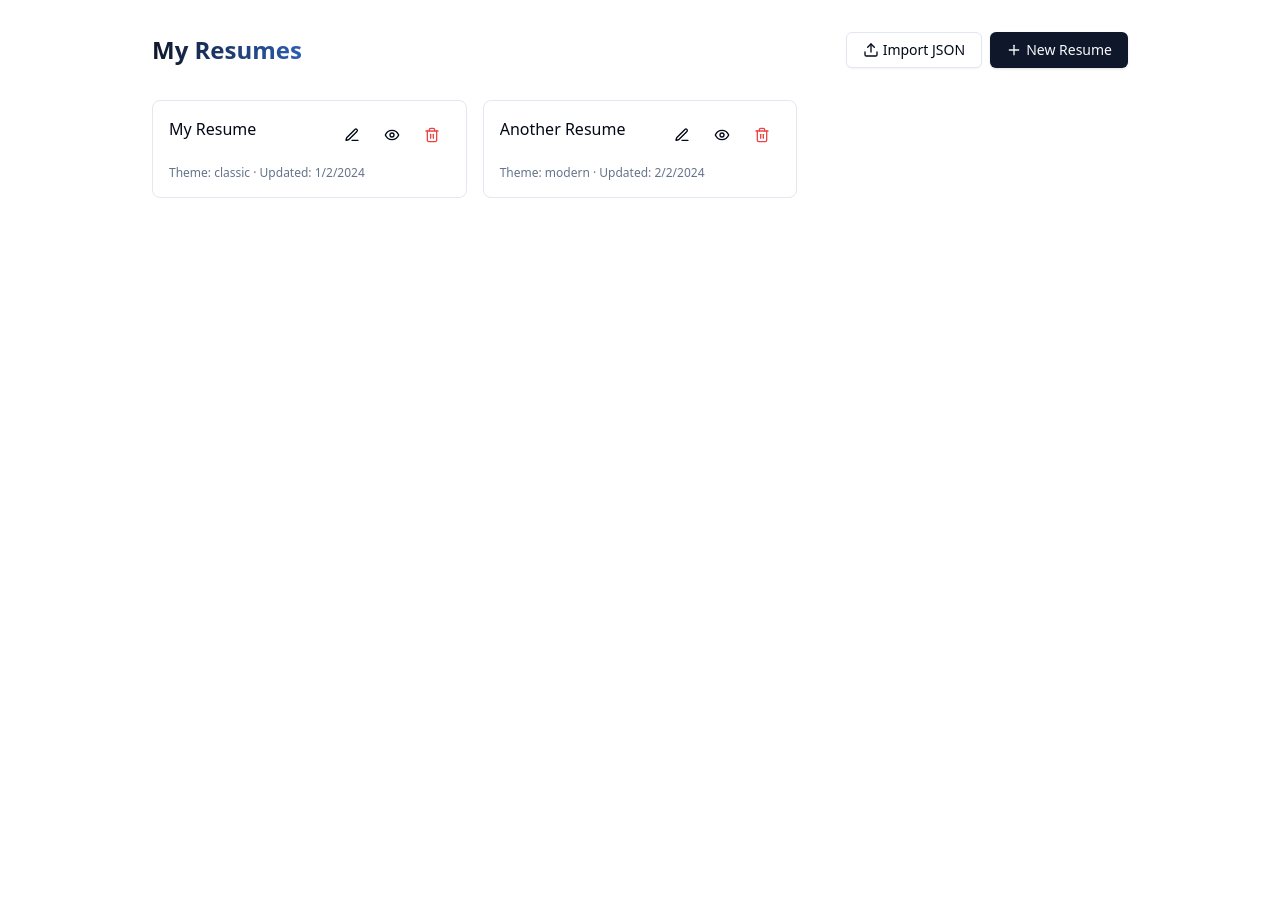
Test: HomePage › closes dialog when cancel clicked
Click the 1st button titled "Delete" at (432, 135), box 414,117 -> 450,153
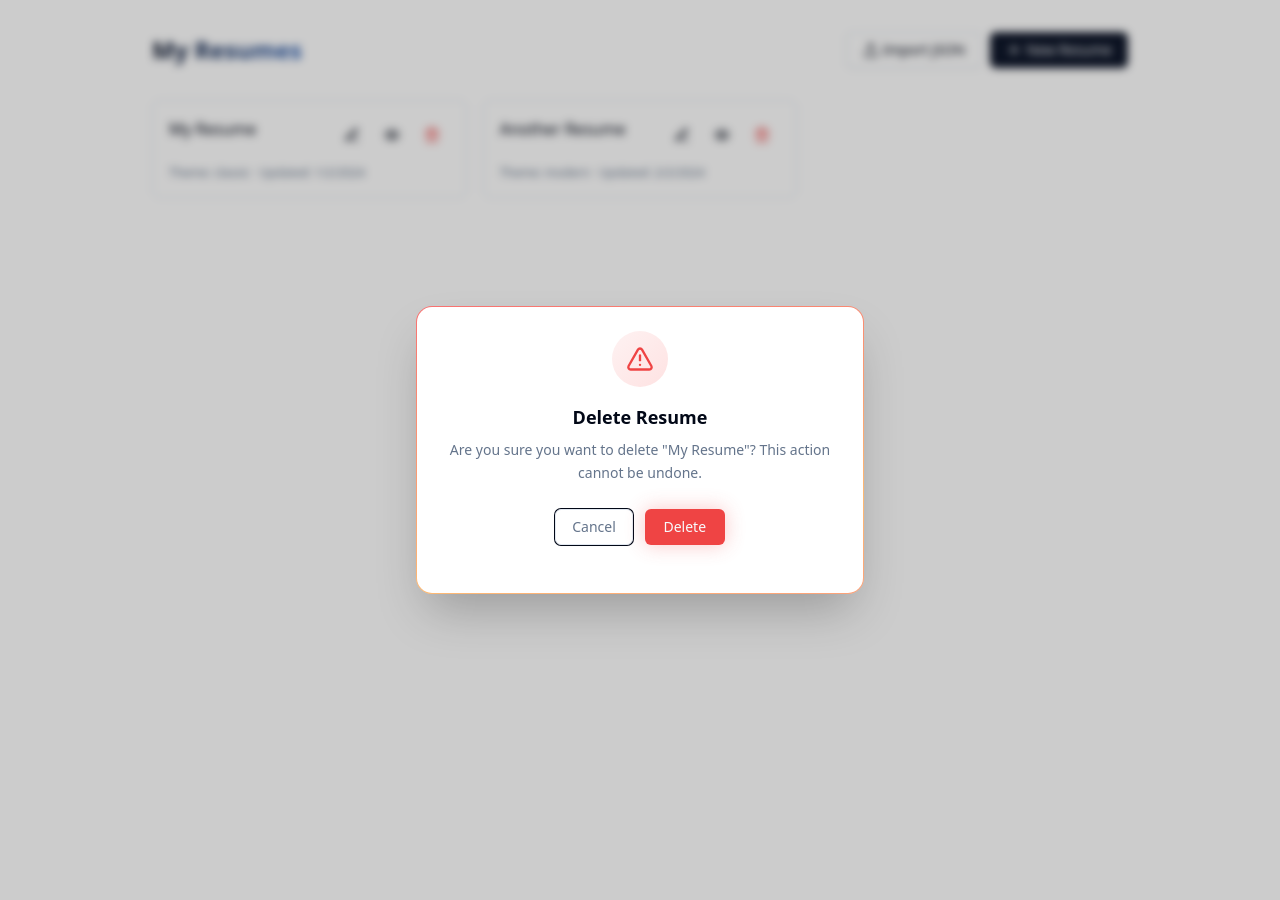
Expected: the heading "Delete Resume" is shown, 573,403 -> 707,431
Click the button "Cancel" at (594, 527), box 555,509 -> 633,545
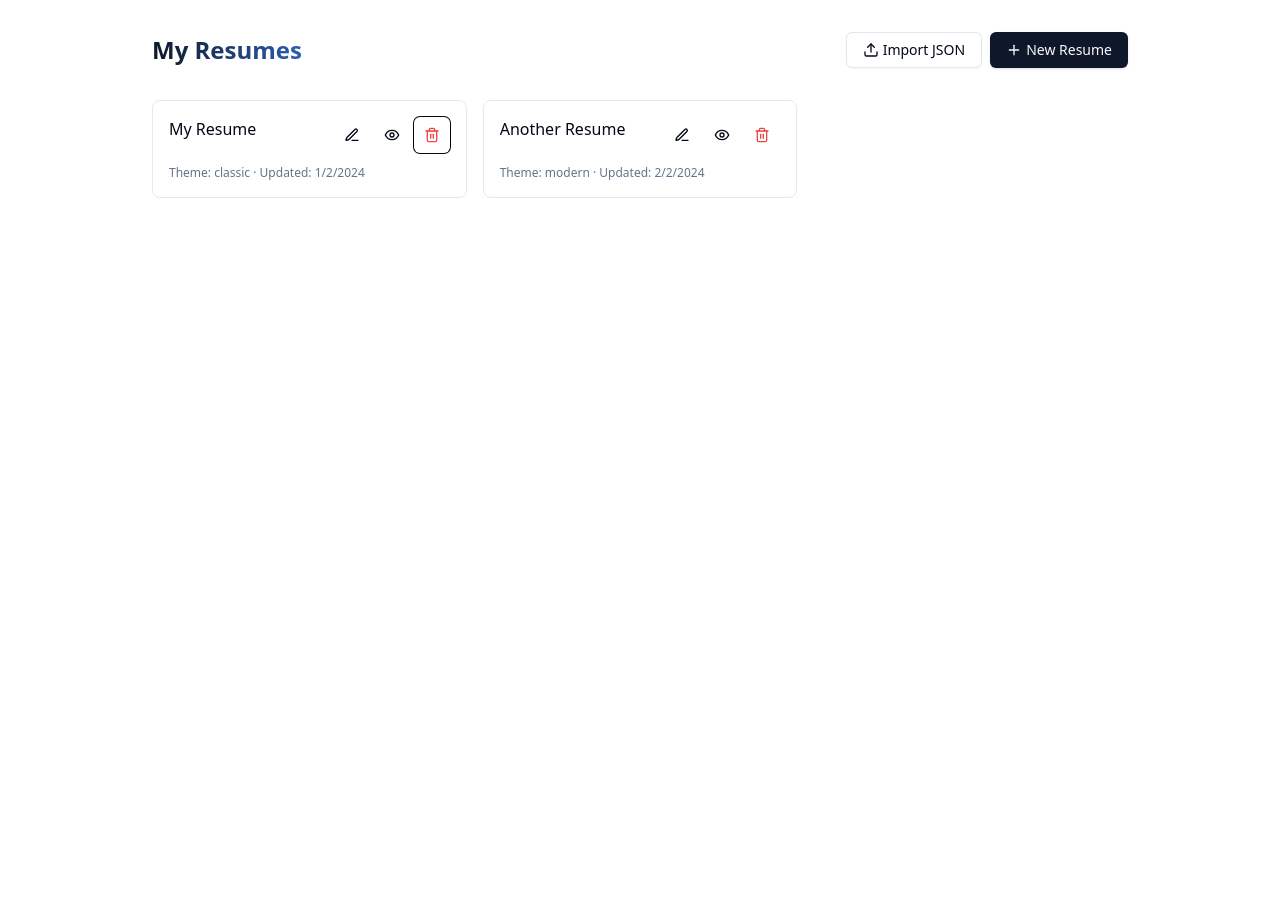
Expected: the heading "Delete Resume" is gone
